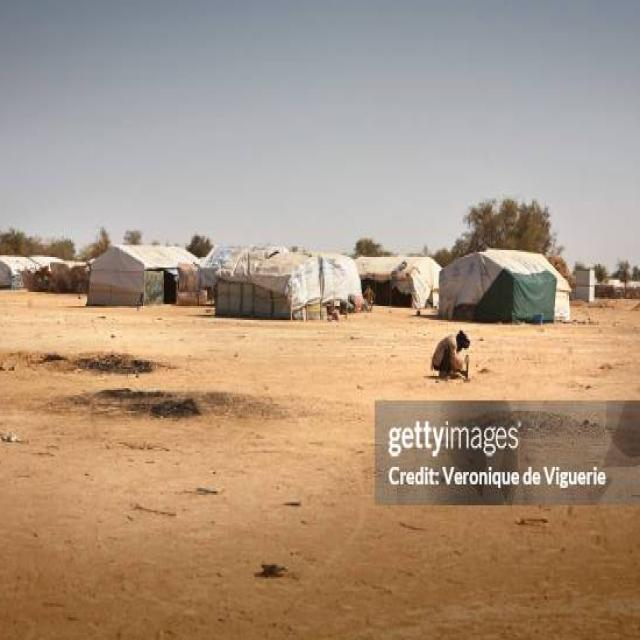civilian: (431, 329, 470, 378)
